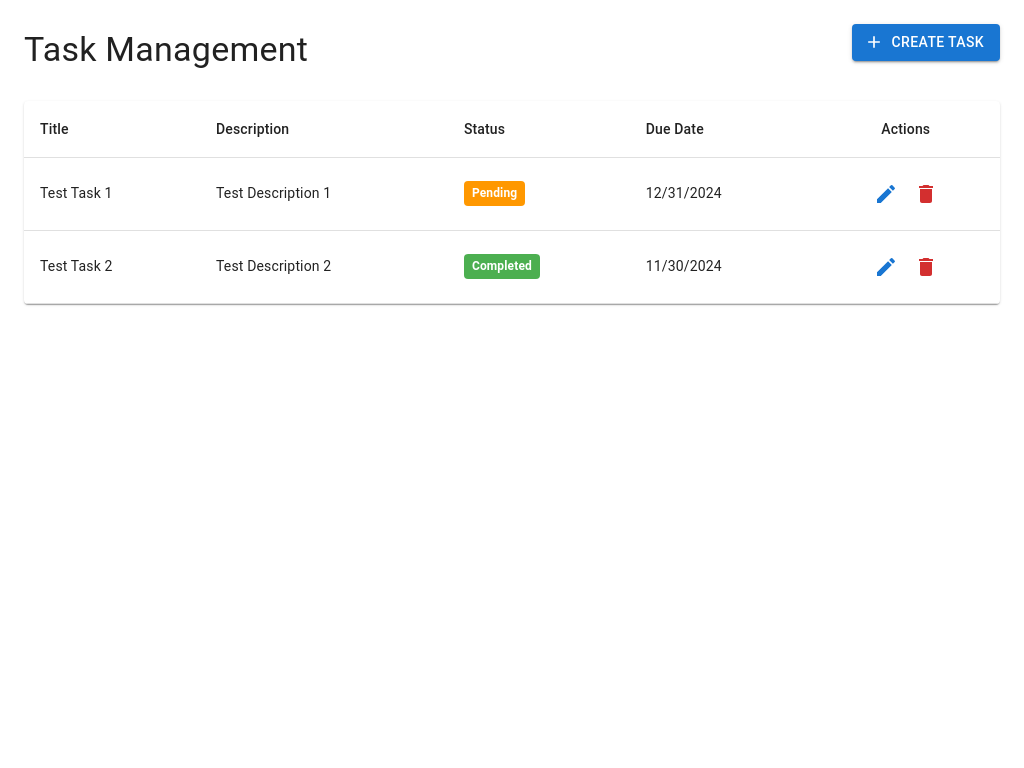
Test: TaskTable Component › opens delete confirmation dialog
What coordinates should you click on to do the following:
click the button named "delete" in the row of "Test Task 1"
I would click on:
 (926, 194)
Its box is [906, 174, 946, 214].
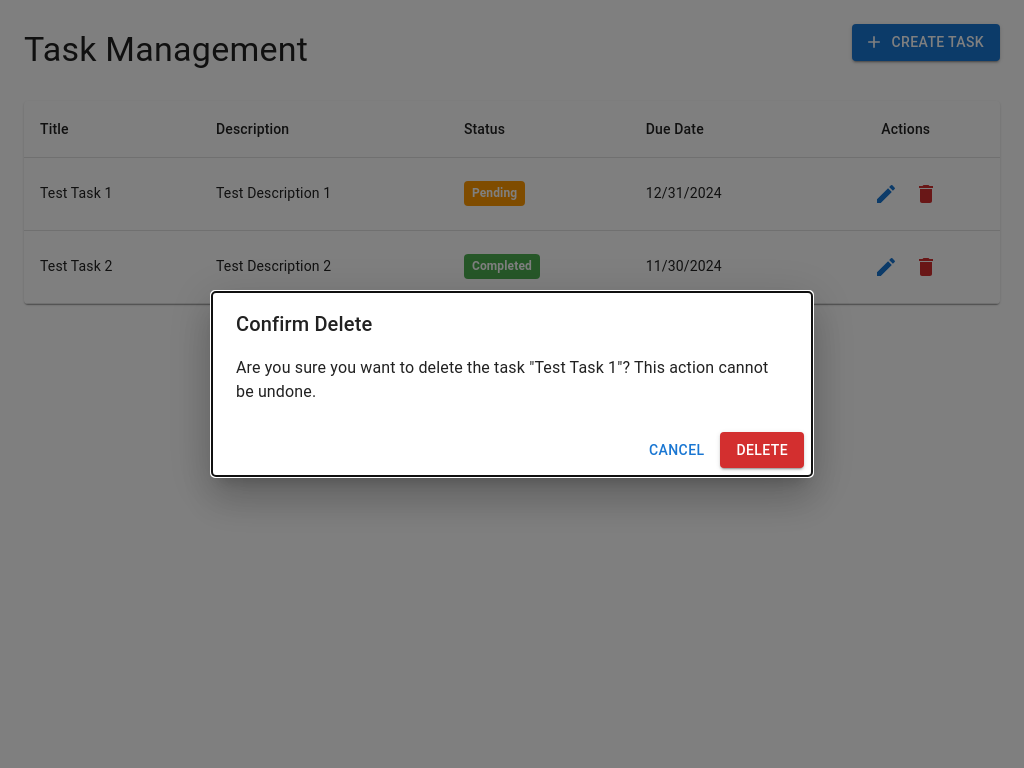
Result: the heading "Confirm Delete" is shown at [236, 312, 372, 336]
Result: the text "Are you sure you want to delete the task" is shown at [236, 358, 534, 377]
